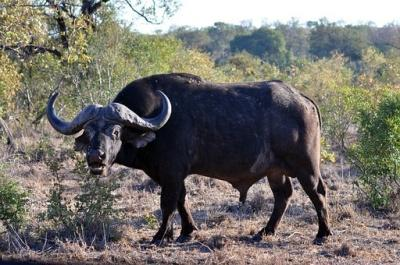buffalo: (48, 73, 330, 243)
